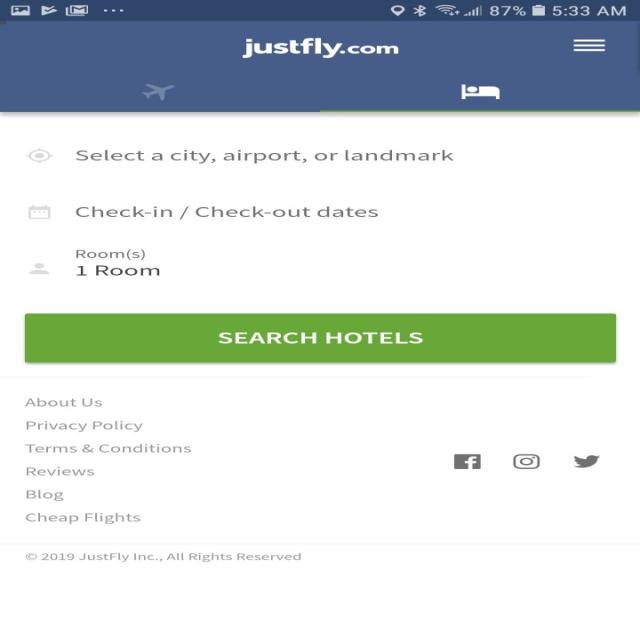Icon: (24, 148, 54, 163), (453, 453, 481, 469), (512, 453, 540, 469), (572, 39, 606, 52), (572, 454, 600, 468), (28, 204, 50, 219), (28, 262, 50, 274)
Image: (140, 83, 176, 101), (460, 84, 500, 99)
Text: (74, 149, 453, 164), (75, 206, 378, 220), (240, 38, 398, 58), (24, 552, 300, 562), (25, 443, 192, 452), (24, 512, 140, 524), (25, 421, 144, 432), (76, 265, 160, 276), (75, 248, 145, 260), (24, 397, 103, 407), (27, 466, 95, 475), (26, 489, 64, 501)
TextButton: (24, 312, 615, 362)
